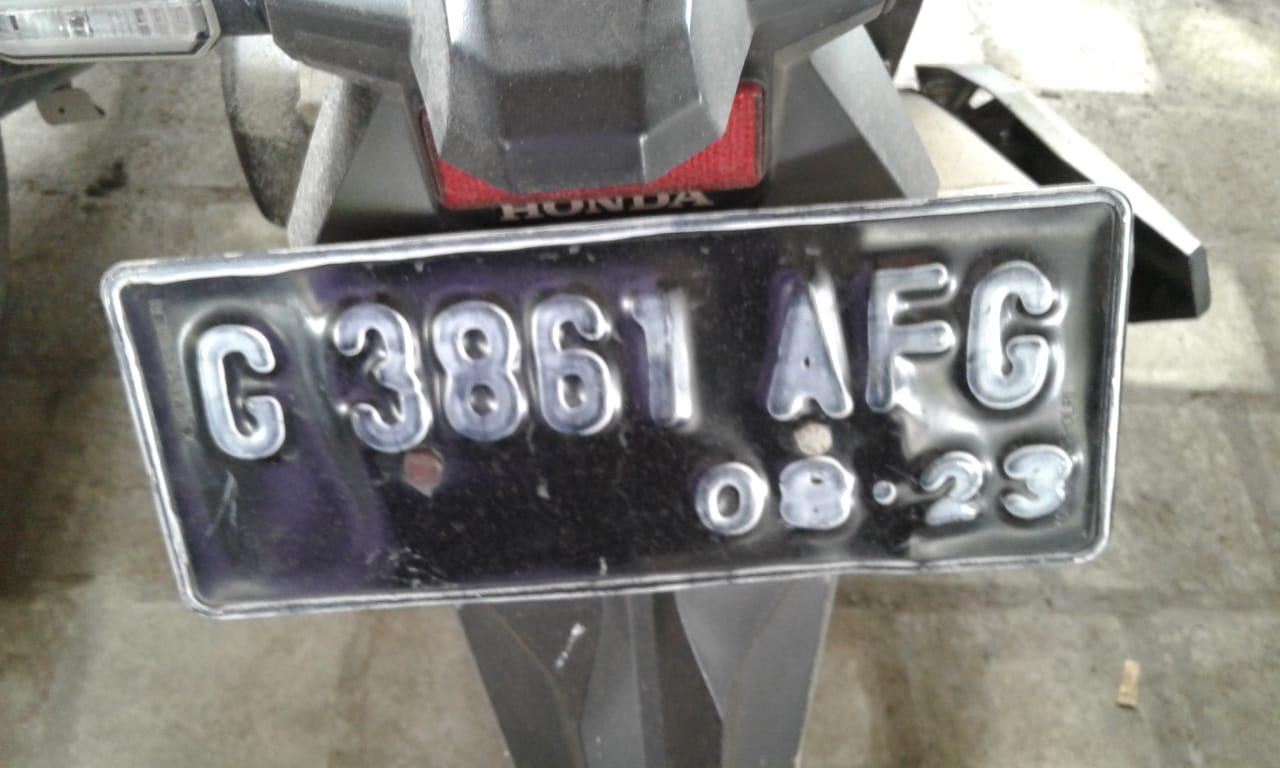plat: (102, 190, 1130, 615)
